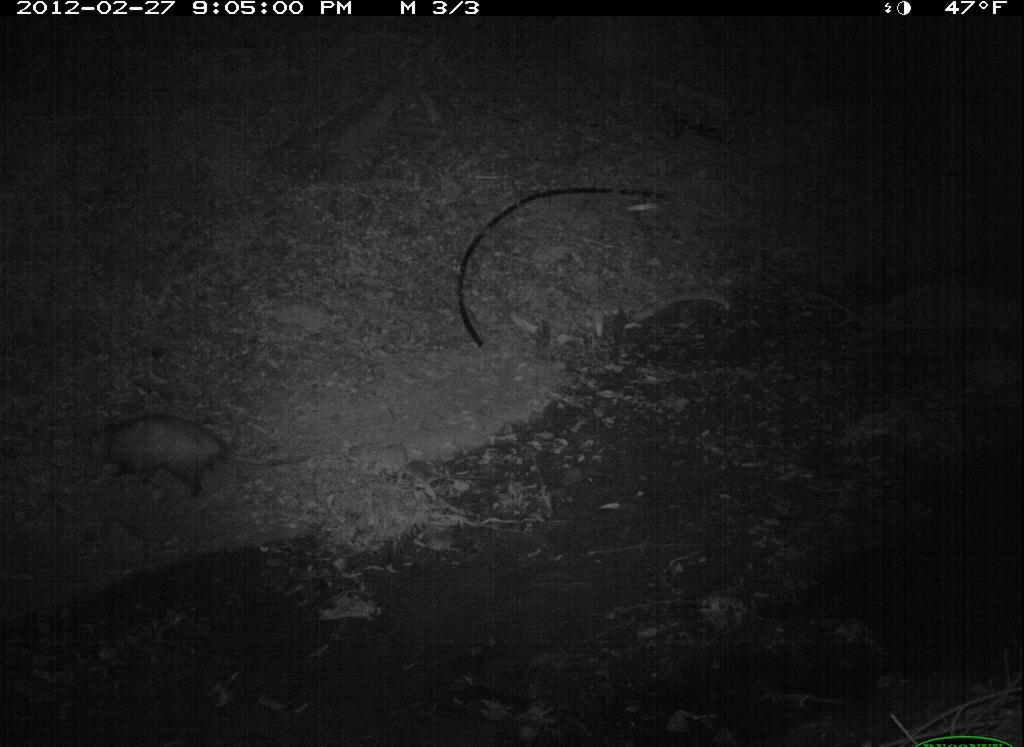opossum: (95, 413, 289, 507)
